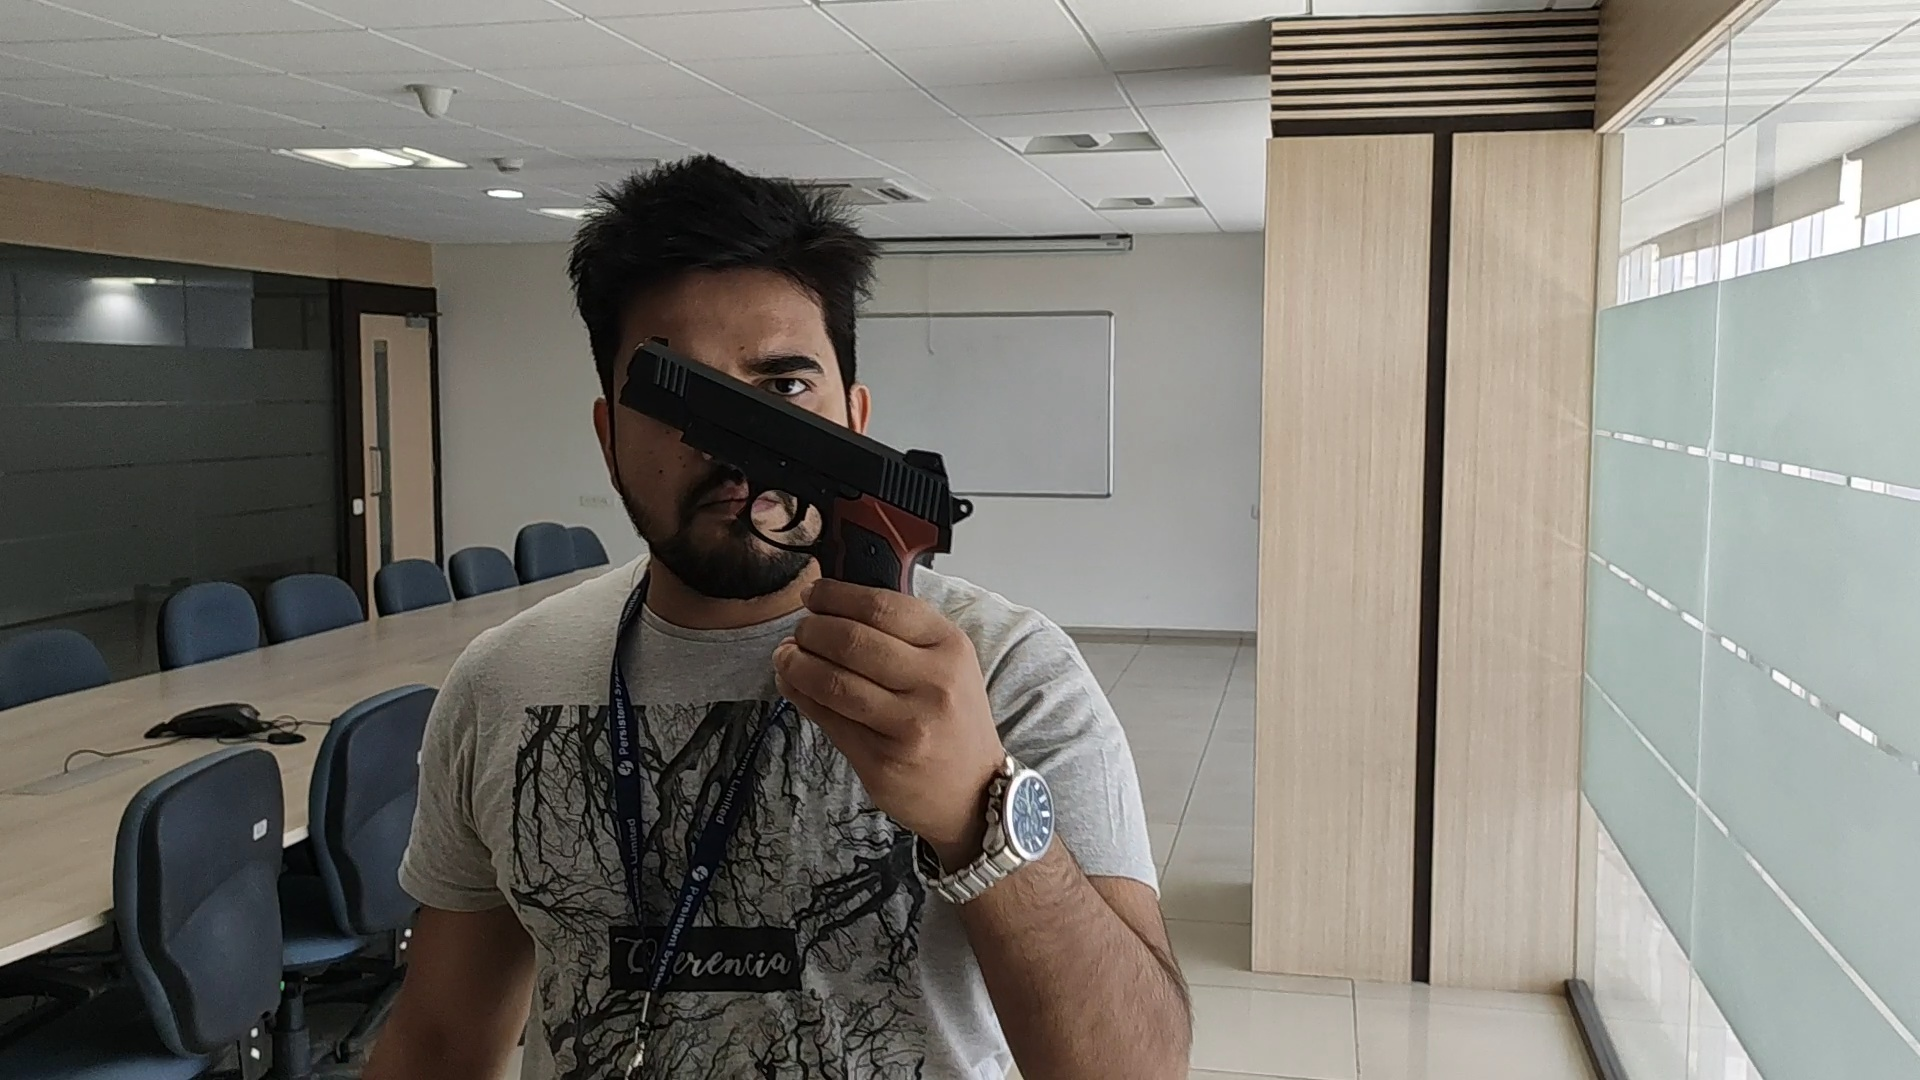gun: (618, 335, 975, 576)
